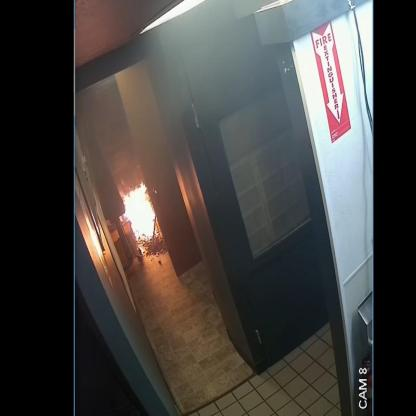fire: (124, 183, 157, 240)
